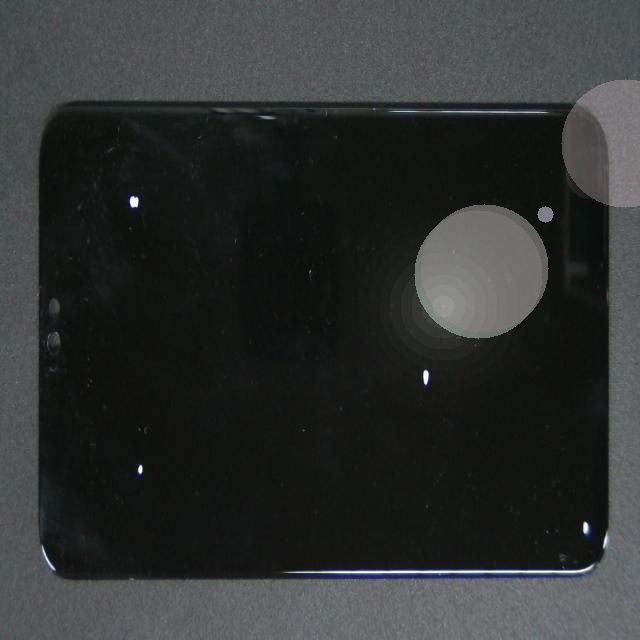stain: (224, 155, 633, 536), (312, 252, 640, 640), (73, 177, 200, 640), (73, 84, 192, 283)
